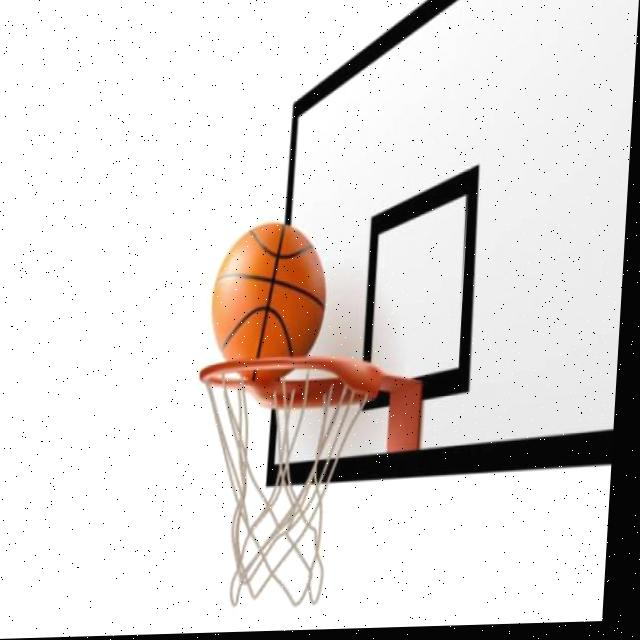Basketball: (206, 220, 332, 384)
hoop: (186, 354, 382, 609)
